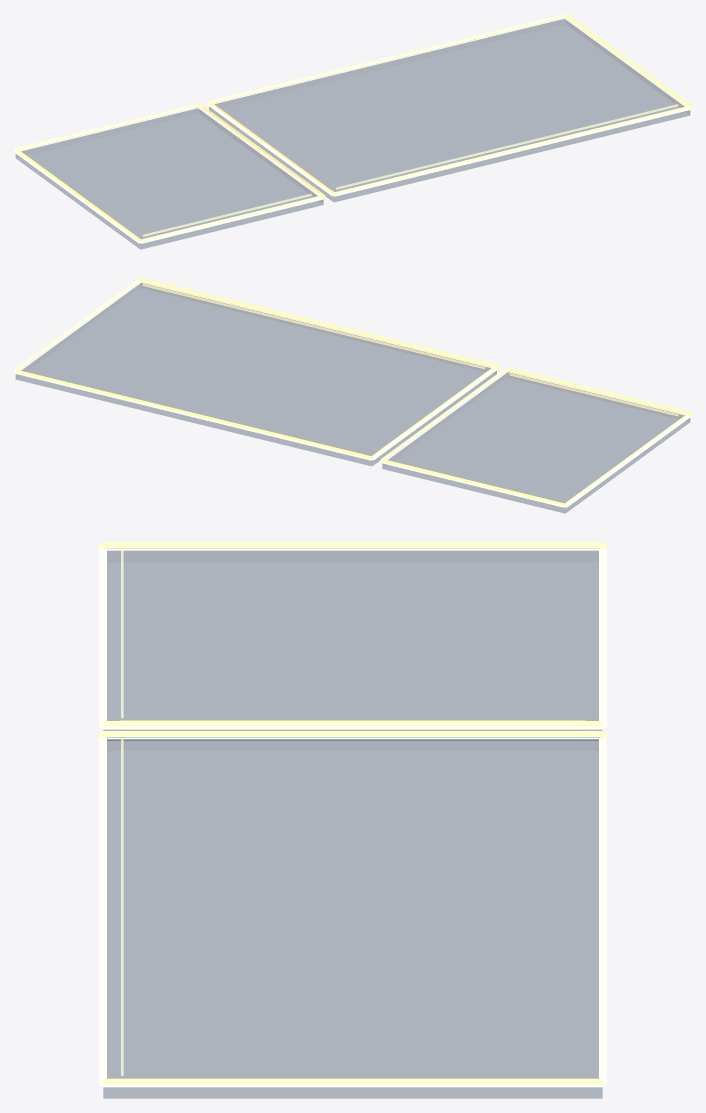
Rendered from two_piece_cut_glass_card_FFC56F.glb.
3 renders of one model, top to bottom at view 1: azimuth 30°, elevation 25°; view 2: azimuth 150°, elevation 25°; view 3: azimuth 270°, elevation 25°, orthographic. The views are drawn at different scales.
Visible parts, largest first — view 1: RightSmokedGlassPane, LeftSmokedGlassPane, RightPane_border_top, RightPane_border_bottom, RightInnerTopGlow, LeftPane_border_top, LeftPane_border_bottom, LeftPane_border_left, RightPane_border_right, LeftPane_border_right, RightPane_border_left, LeftInnerTopGlow (+2 smaller); view 2: RightSmokedGlassPane, LeftSmokedGlassPane, RightPane_border_bottom, RightPane_border_top, RightInnerTopGlow, LeftPane_border_bottom, LeftPane_border_top, LeftPane_border_left, RightPane_border_right, LeftPane_border_right, RightPane_border_left, LeftInnerTopGlow (+2 smaller); view 3: RightSmokedGlassPane, LeftSmokedGlassPane, RightPane_border_right, LeftPane_border_right, RightPane_border_left, LeftPane_border_left, RightPane_border_bottom, RightPane_border_top, LeftCutEdgeGlow, RightCutEdgeGlow, LeftPane_border_bottom, LeftPane_border_top (+1 smaller).
Boxes of the visible parts, x1,y1,x2,y2 form: RightSmokedGlassPane: [209, 19, 689, 201]; LeftSmokedGlassPane: [16, 108, 323, 249]; RightPane_border_top: [333, 105, 691, 196]; RightPane_border_bottom: [208, 14, 566, 105]; RightInnerTopGlow: [336, 104, 678, 189]; LeftPane_border_top: [139, 195, 324, 243]; LeftPane_border_bottom: [14, 103, 199, 152]; LeftPane_border_left: [14, 149, 141, 243]; RightPane_border_right: [564, 14, 691, 109]; LeftPane_border_right: [197, 104, 325, 198]; RightPane_border_left: [207, 101, 335, 196]; LeftInnerTopGlow: [142, 193, 311, 236]; RightSmokedGlassPane: [16, 283, 496, 465]; LeftSmokedGlassPane: [382, 372, 689, 513]; RightPane_border_bottom: [14, 369, 372, 460]; RightPane_border_top: [139, 278, 497, 368]; RightInnerTopGlow: [142, 283, 485, 369]; LeftPane_border_bottom: [381, 459, 566, 507]; LeftPane_border_top: [506, 367, 691, 416]; LeftPane_border_left: [564, 413, 691, 507]; RightPane_border_right: [14, 278, 141, 373]; LeftPane_border_right: [380, 368, 508, 461]; RightPane_border_left: [370, 365, 498, 460]; LeftInnerTopGlow: [509, 373, 678, 416]; RightSmokedGlassPane: [103, 737, 602, 1098]; LeftSmokedGlassPane: [103, 551, 602, 740]; RightPane_border_right: [103, 1078, 602, 1087]; LeftPane_border_right: [103, 721, 602, 729]; RightPane_border_left: [103, 731, 602, 739]; LeftPane_border_left: [103, 542, 602, 550]; RightPane_border_bottom: [599, 732, 606, 1085]; RightPane_border_top: [99, 732, 106, 1085]; LeftCutEdgeGlow: [120, 720, 585, 724]; RightCutEdgeGlow: [120, 731, 585, 735]; LeftPane_border_bottom: [599, 543, 606, 727]; LeftPane_border_top: [99, 543, 106, 727].
Bounding box in the file's own units: 3.02 × 0.051 × 1.2.
